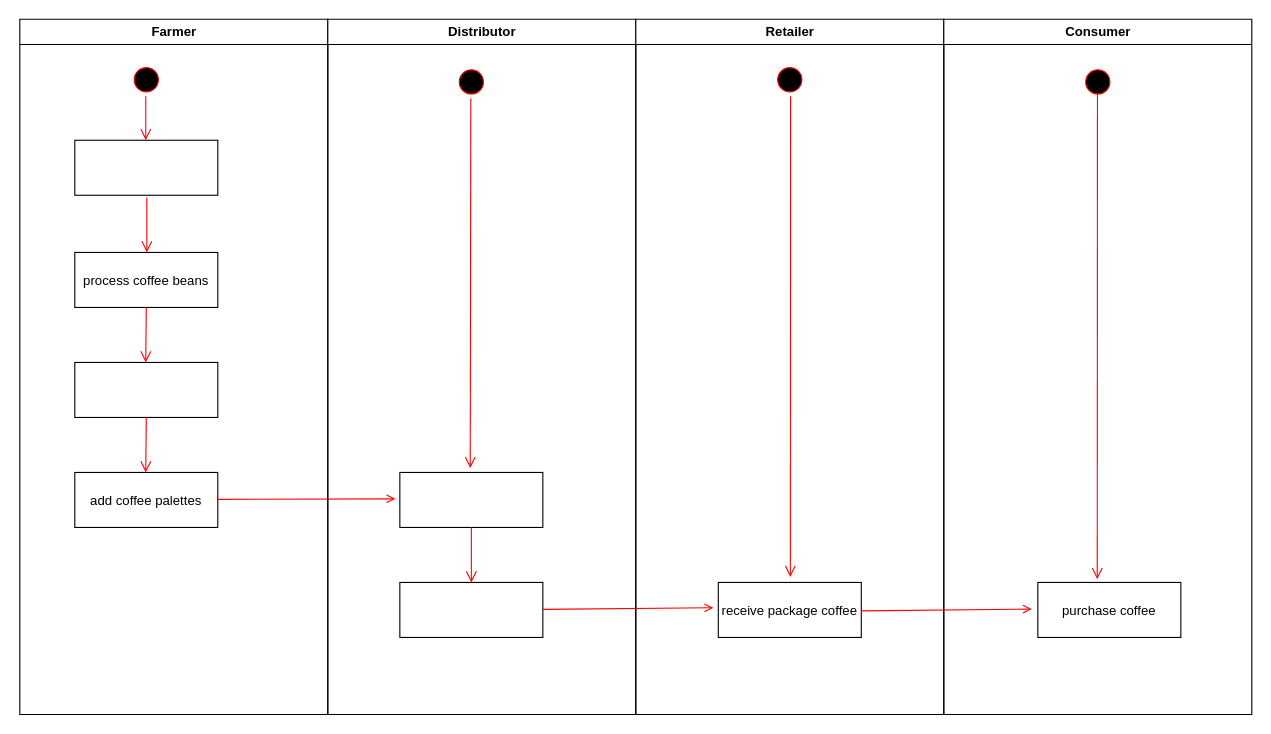
This 1271x734 diagram has some shape labels left out. The centre of each missing label's shape, as x and y in pixels:
"buy package coffee" belongs at [471,499].
"harvest coffee beans" belongs at [146,167].
"pack coffee palettes" belongs at [146,389].
"ship package coffee" belongs at [471,609].
